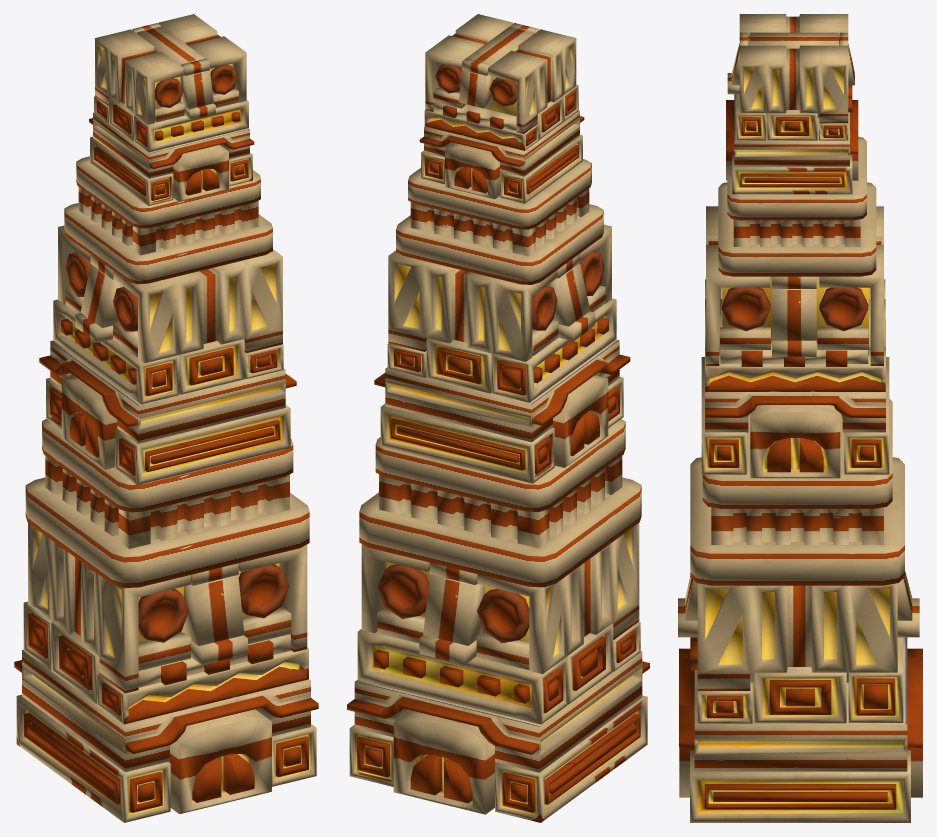
Rendered from SKL_Totem.fbx.
The picture shows the model from 3 angles, left to right: view 1: azimuth 30°, elevation 25°; view 2: azimuth 150°, elevation 25°; view 3: azimuth 270°, elevation 25°; orthographic projection. The views are drawn at different scales.
Visible parts, largest first — view 1: MKL_Tottem; view 2: MKL_Tottem; view 3: MKL_Tottem.
Boxes of the visible parts, x1,y1,x2,y2 form: MKL_Tottem: [14, 14, 318, 822]; MKL_Tottem: [347, 14, 649, 822]; MKL_Tottem: [678, 14, 922, 822].
Bounding box in the file's own units: 0.6612 × 2.31 × 0.6969.
